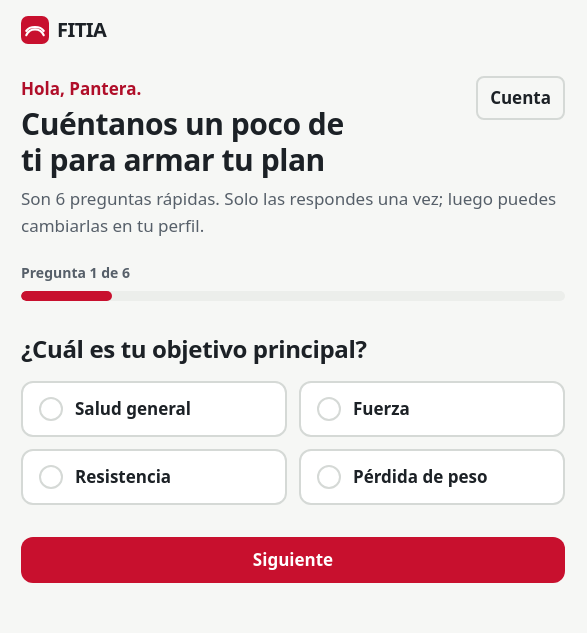
Test case: HU 4 — diagnóstico inicial › no deja avanzar sin responder ni sin elegir días
The width and height of the screenshot is (587, 633).
Click the button "Siguiente" at [293, 560], box [21,537,565,583]
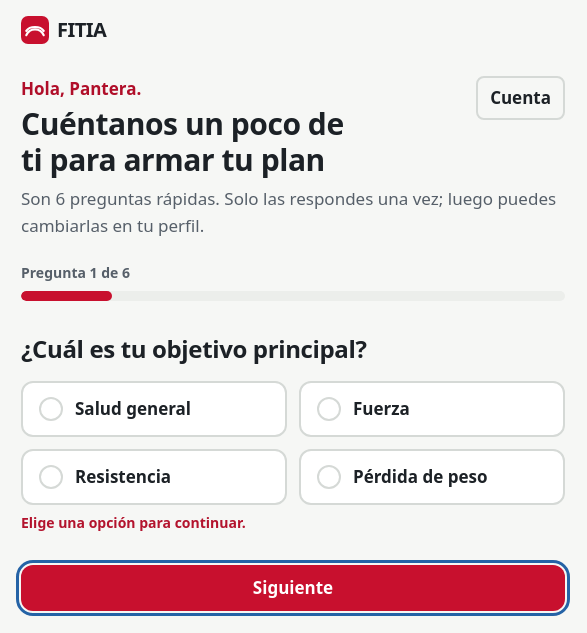
expect the text "Pregunta 1 de 6" is shown: met, box [21,263,130,283]
expect the text "Elige una opción para continuar." is shown: met, box [21,513,246,532]
